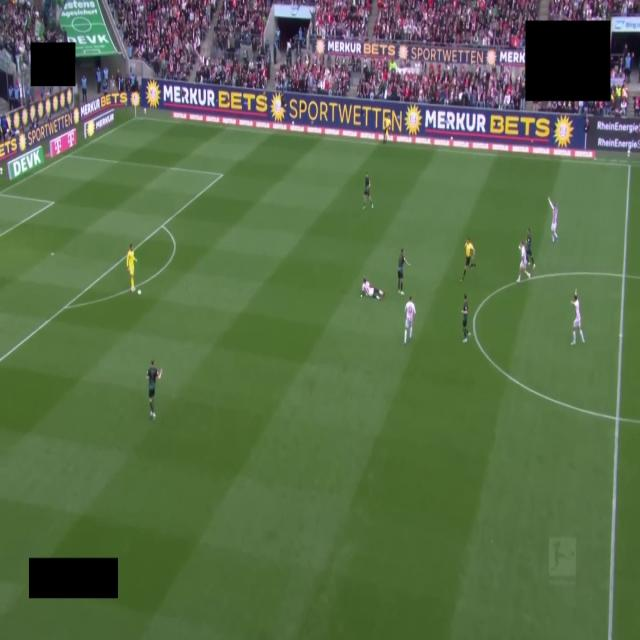ball: (138, 289, 141, 295)
player: (147, 360, 161, 418), (571, 290, 584, 345), (398, 248, 410, 295), (404, 296, 415, 344), (517, 242, 530, 282), (361, 279, 384, 300), (126, 244, 136, 292), (548, 199, 557, 241), (526, 229, 535, 269), (363, 174, 373, 209), (462, 295, 469, 343)
referee: (461, 238, 475, 282)
